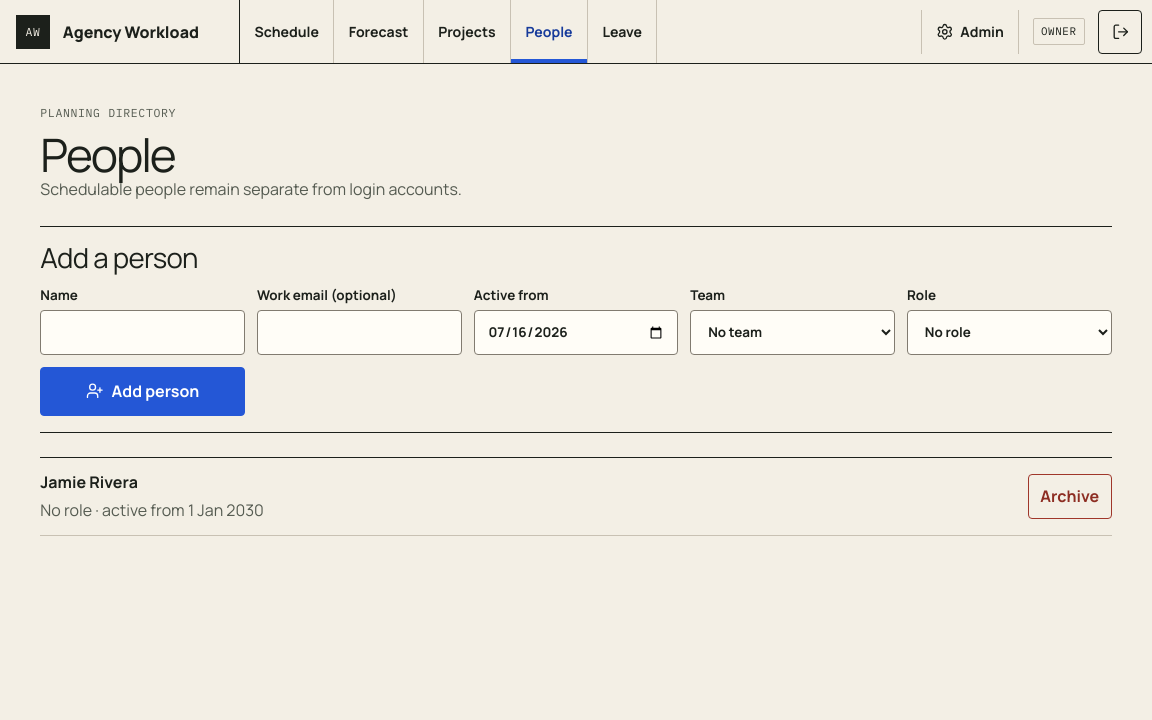
Test: Agency Workload app routes › keeps person archive success distinct when the subsequent refresh fails
The width and height of the screenshot is (1152, 720).
Click the button with aria-label "Archive Jamie Rivera" at (1070, 496), box top-left (1028, 474), bottom-right (1112, 519)
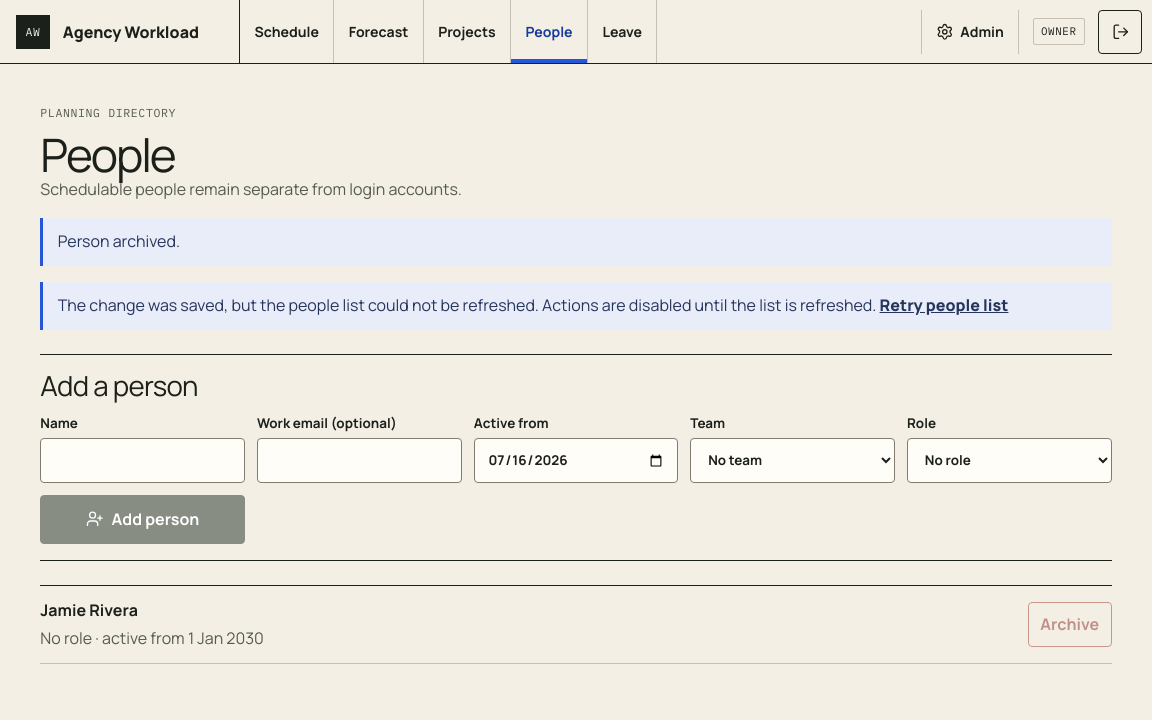
Expected: the text "Person archived." is shown, top-left (40, 218), bottom-right (1112, 266)
Expected: the button "Retry people list" is shown, top-left (880, 293), bottom-right (1008, 319)
Expected: the button with aria-label "Archive Jamie Rivera" is disabled, top-left (1028, 602), bottom-right (1112, 647)
